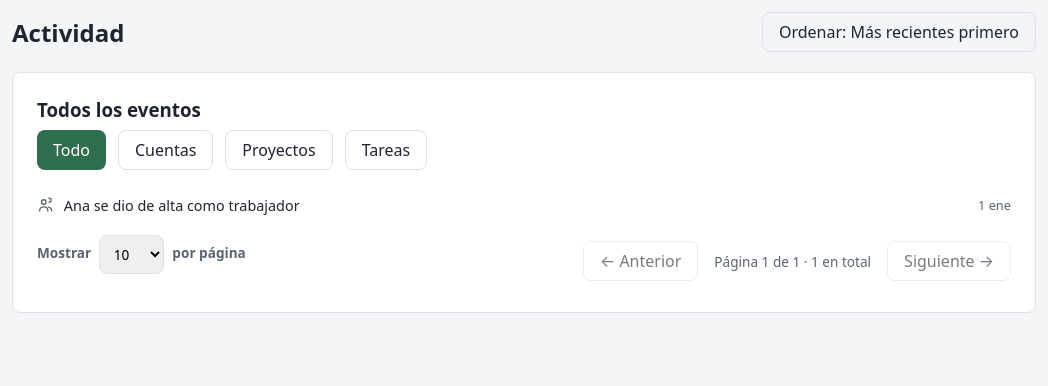
AdminActivity › al elegir una categoría aparece su sub-filtro, con 'Todos' y cada tipo
The image size is (1048, 386).
Expected: the button "Todo" is shown, [37,130,106,170]
Step 1. Click the button "Cuentas" → {"x": 166, "y": 150}, box [118,130,213,170]
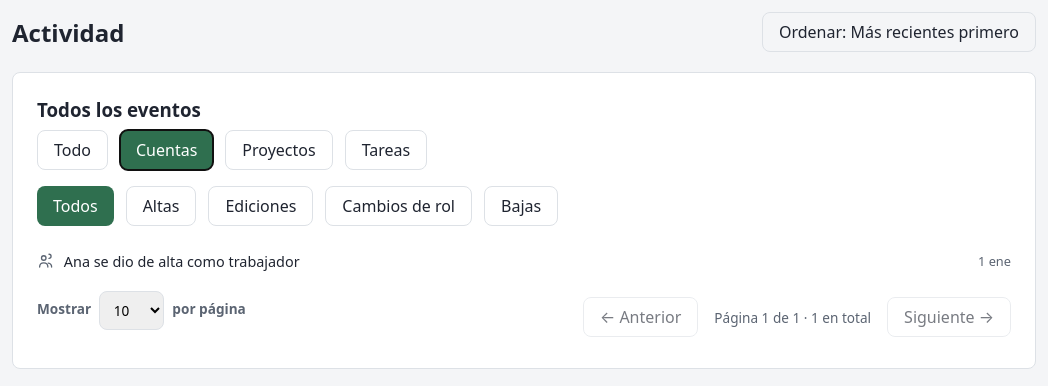
Now the button "Todos" is shown, box [37,186,114,226]
Now the button "Bajas" is shown, box [484,186,558,226]
Now the button "Cambios de rol" is shown, box [325,186,472,226]
